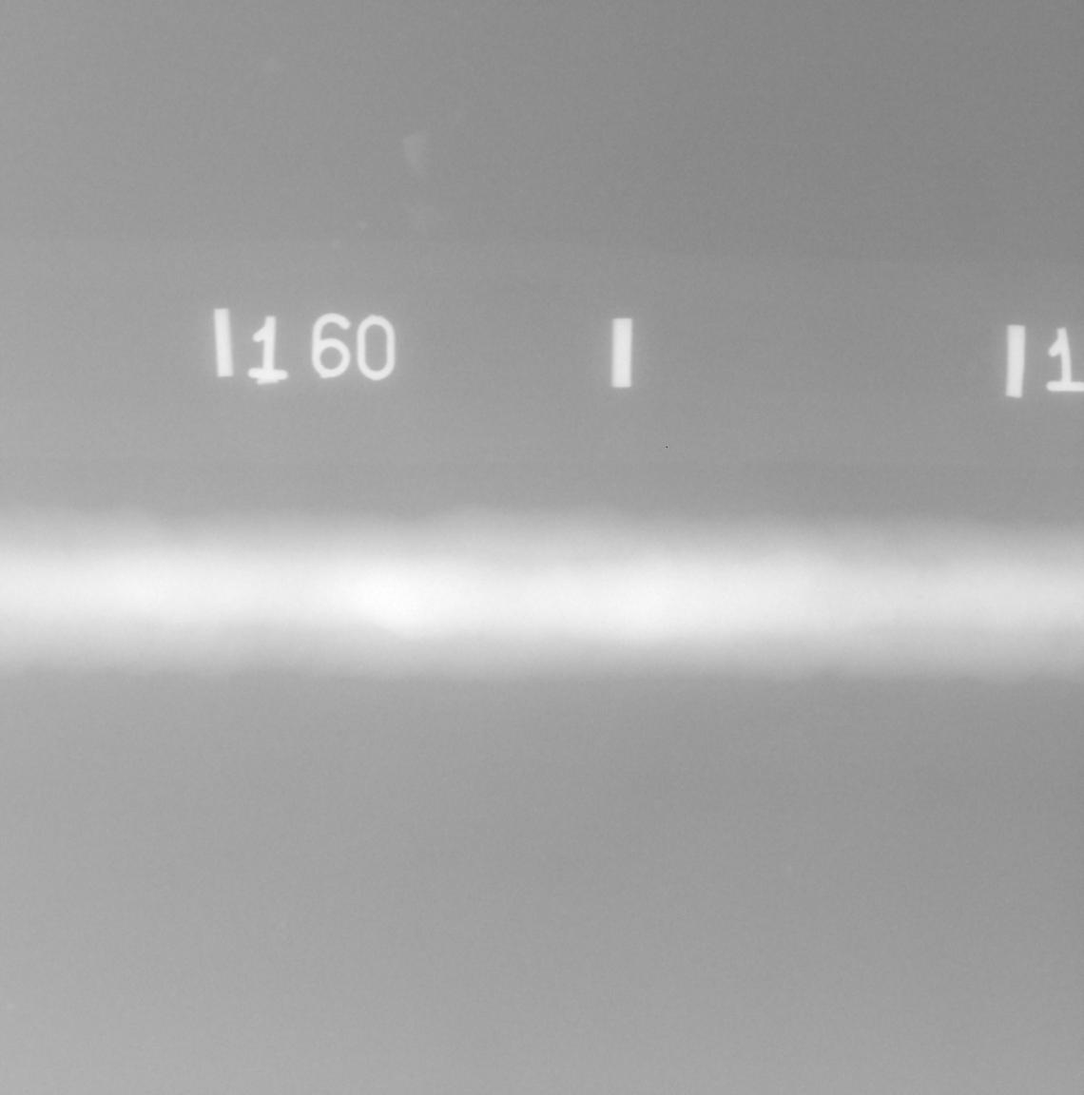Inclusion: (916, 595, 924, 600)
